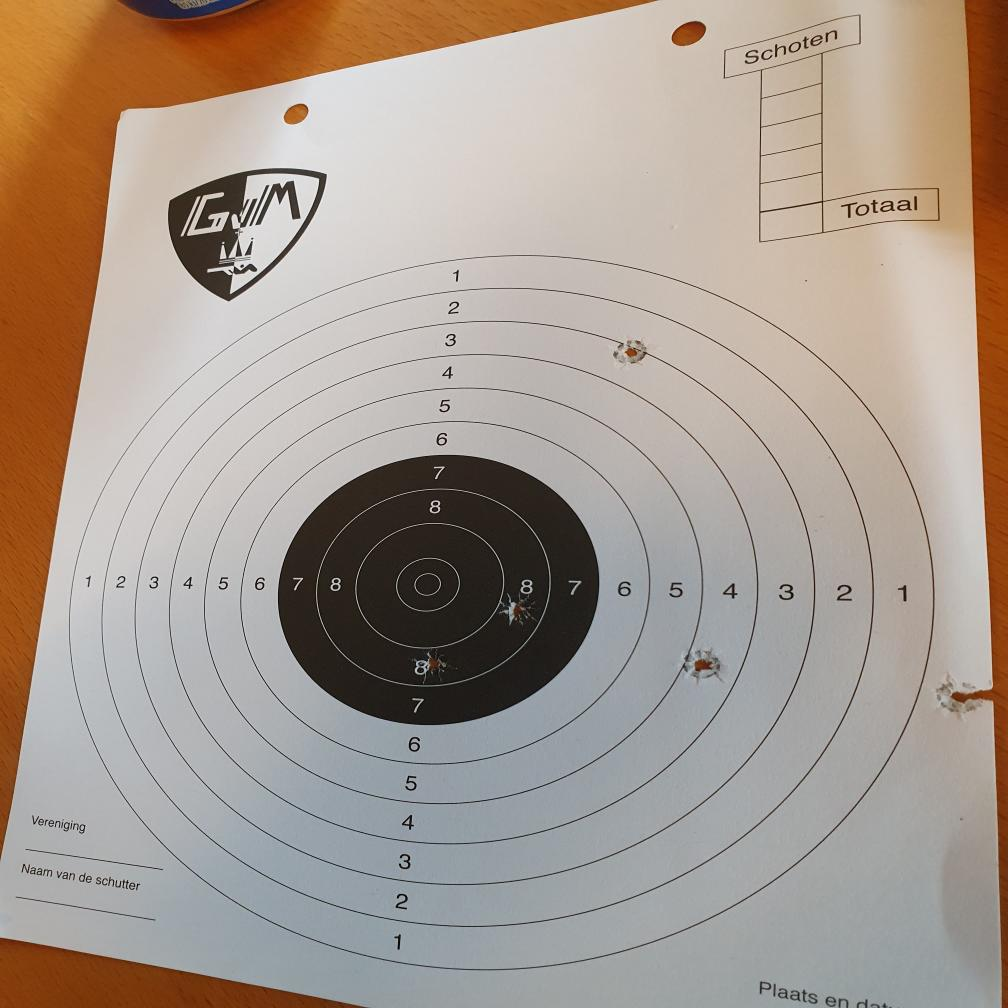0: (936, 670, 996, 716)
3: (608, 334, 650, 366)
5: (680, 646, 726, 684)
8: (408, 645, 460, 684), (494, 589, 547, 627)
Target: (71, 256, 934, 967)
black_contour: (276, 454, 601, 726)
